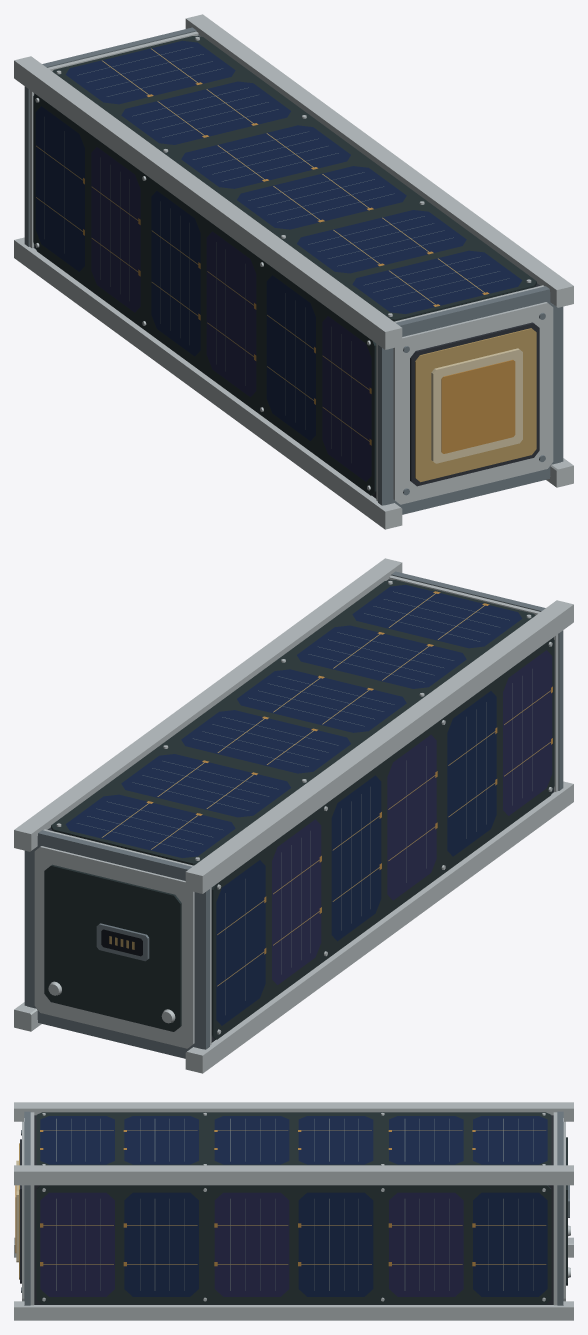
The model's file is cubesat.obj.
3 renders of one model, top to bottom at view 1: azimuth 30°, elevation 25°; view 2: azimuth 150°, elevation 25°; view 3: azimuth 270°, elevation 25°, orthographic. The views are drawn at different scales.
Visible parts, largest first — view 1: Body_mounted_solar_board_3, Body_mounted_solar_board_2, Chassis_and_end_frames, Ceramic_patch_and_ground_plane, Dispenser_rail_MP, Dispenser_rail_MM, Dispenser_rail_PP; view 2: Body_mounted_solar_board_3, Body_mounted_solar_board_2, End_access_and_deployment_switches, Chassis_and_end_frames, Dispenser_rail_MP, Dispenser_rail_MM, Dispenser_rail_PP; view 3: Body_mounted_solar_board_1, Body_mounted_solar_board_2, Dispenser_rail_PP, Dispenser_rail_PM, Dispenser_rail_MP, Chassis_and_end_frames, Ceramic_patch_and_ground_plane, End_access_and_deployment_switches.
Boxes of the visible parts, x1,y1,x2,y2 form: Body_mounted_solar_board_3: [29, 90, 377, 501]; Body_mounted_solar_board_2: [48, 31, 544, 322]; Chassis_and_end_frames: [24, 27, 563, 514]; Ceramic_patch_and_ground_plane: [403, 313, 545, 495]; Dispenser_rail_MP: [14, 56, 402, 349]; Dispenser_rail_MM: [14, 237, 402, 529]; Dispenser_rail_PP: [185, 14, 573, 307]; Body_mounted_solar_board_3: [210, 634, 558, 1045]; Body_mounted_solar_board_2: [43, 575, 539, 866]; End_access_and_deployment_switches: [44, 864, 181, 1031]; Chassis_and_end_frames: [24, 571, 563, 1058]; Dispenser_rail_MP: [185, 600, 573, 893]; Dispenser_rail_MM: [185, 781, 573, 1073]; Dispenser_rail_PP: [14, 558, 402, 851]; Body_mounted_solar_board_1: [30, 1185, 557, 1305]; Body_mounted_solar_board_2: [30, 1112, 557, 1165]; Dispenser_rail_PP: [14, 1165, 573, 1185]; Dispenser_rail_PM: [14, 1301, 573, 1320]; Dispenser_rail_MP: [14, 1102, 573, 1121]; Chassis_and_end_frames: [22, 1111, 565, 1305]; Ceramic_patch_and_ground_plane: [15, 1130, 21, 1292]; End_access_and_deployment_switches: [566, 1137, 570, 1285].
Bounding box in the file's own units: 0.1 × 0.1 × 0.3405.
